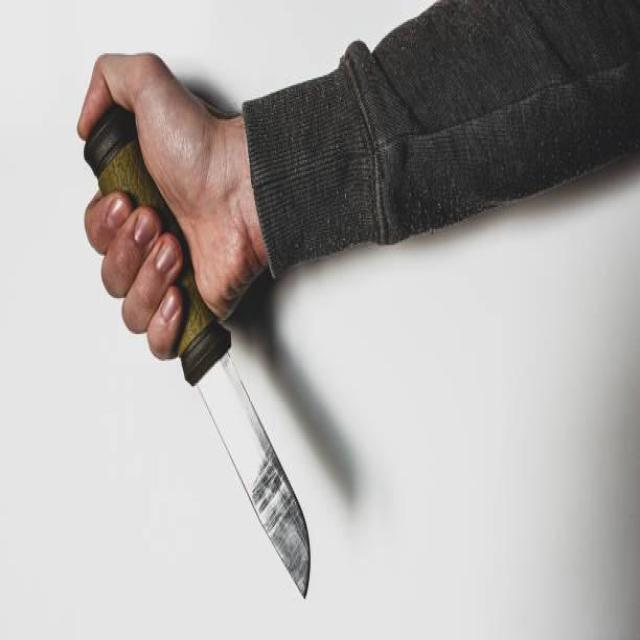faca: (74, 26, 332, 602)
